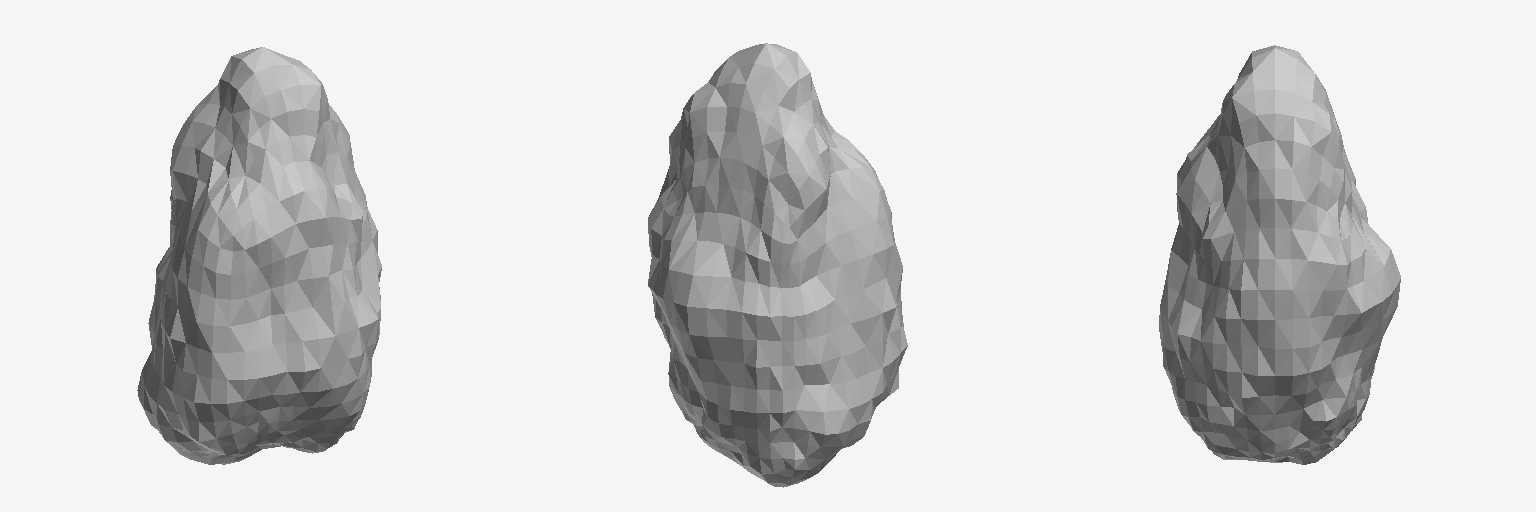
Rendered from stone_b.obj.
3 views of the same model, side by side, from view 1: azimuth 30°, elevation 25°; view 2: azimuth 150°, elevation 25°; view 3: azimuth 270°, elevation 25° (orthographic).
Parts seen in each view (by area): view 1: Stone_F_3; view 2: Stone_F_3; view 3: Stone_F_3.
Boxes of the visible parts, x1=… form: Stone_F_3: x1=137, y1=47, x2=381, y2=464; Stone_F_3: x1=648, y1=43, x2=907, y2=487; Stone_F_3: x1=1159, y1=45, x2=1400, y2=464.
Size of the model in its own units: 67.1 by 125 by 65.64.